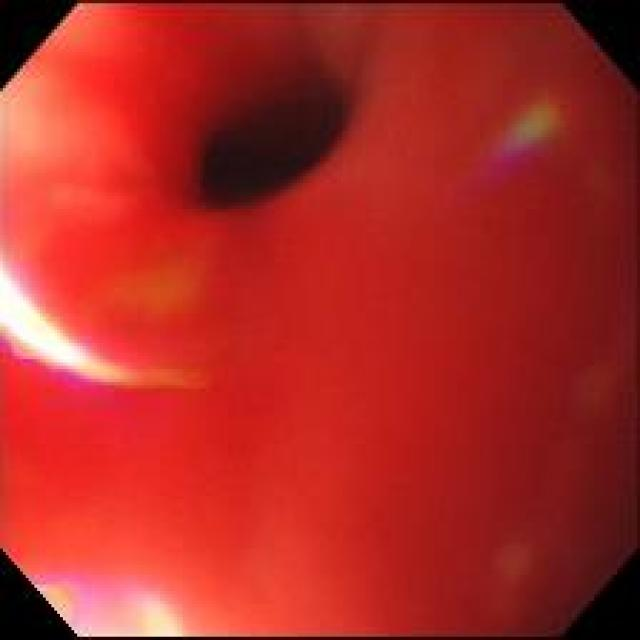blur: (2, 1, 635, 635)
color misalignment: (45, 318, 200, 396), (34, 568, 174, 634), (505, 85, 560, 158)
contrast: (187, 58, 360, 212)
specularity: (2, 272, 70, 359)
